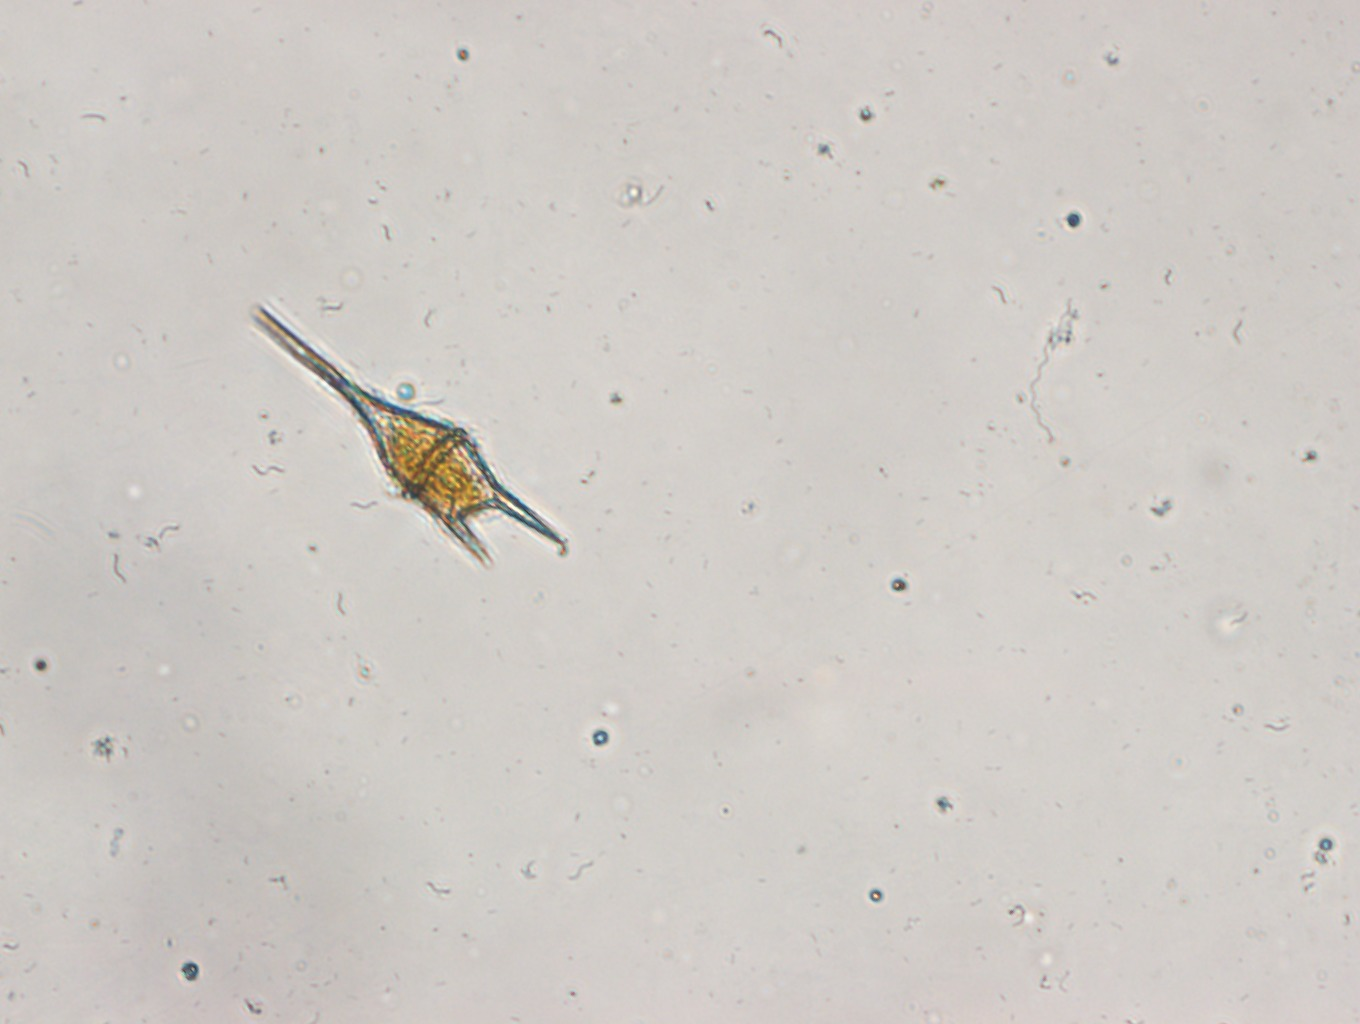ceratium furca: (249, 300, 570, 569)
